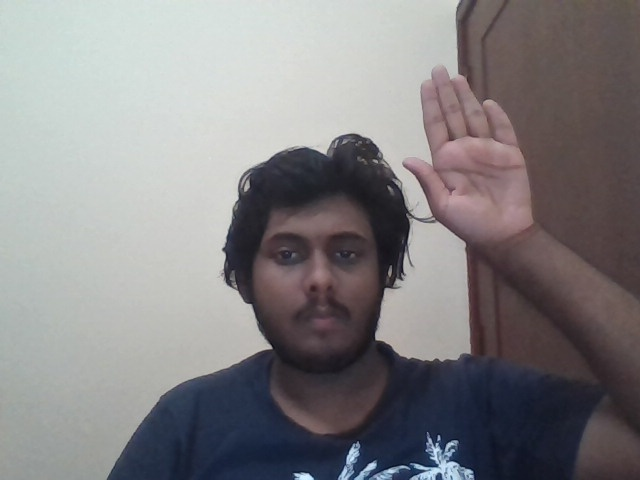hello: (402, 65, 534, 243)
